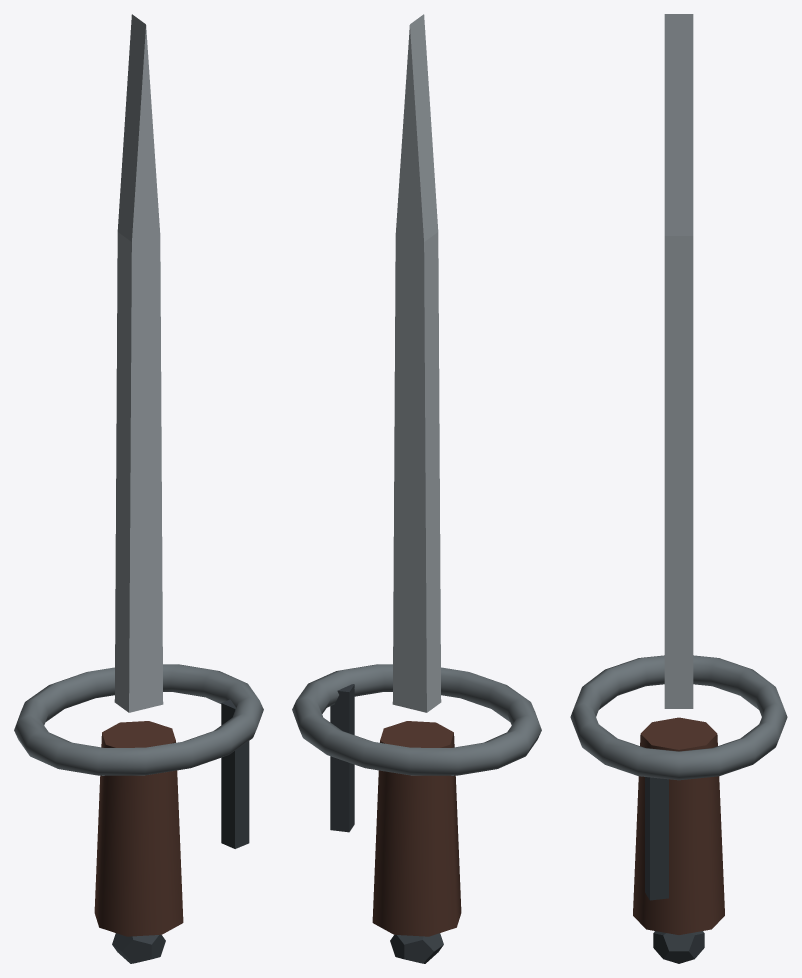
The model's file is rapier.glb.
3 views of the same model, side by side, from view 1: azimuth 30°, elevation 25°; view 2: azimuth 150°, elevation 25°; view 3: azimuth 270°, elevation 25° (orthographic).
Parts seen in each view (by area): view 1: rapier-blade, rapier-grip, rapier-guard, rapier-knuckle-bow, rapier-pommel; view 2: rapier-blade, rapier-grip, rapier-guard, rapier-knuckle-bow, rapier-pommel; view 3: rapier-blade, rapier-grip, rapier-guard, rapier-knuckle-bow, rapier-pommel.
Part boxes in pixels (<box>): rapier-blade: <box>114,14,163,712</box>; rapier-grip: <box>94,721,183,936</box>; rapier-guard: <box>14,664,263,775</box>; rapier-knuckle-bow: <box>221,699,249,848</box>; rapier-pommel: <box>112,933,165,963</box>; rapier-blade: <box>392,14,441,712</box>; rapier-grip: <box>372,721,461,936</box>; rapier-guard: <box>292,664,541,775</box>; rapier-knuckle-bow: <box>330,684,354,832</box>; rapier-pommel: <box>390,933,443,963</box>; rapier-blade: <box>664,14,693,708</box>; rapier-grip: <box>633,717,724,934</box>; rapier-guard: <box>570,655,787,780</box>; rapier-knuckle-bow: <box>645,749,668,900</box>; rapier-pommel: <box>653,931,704,963</box>.
Size of the model in its own units: 0.238 by 0.95 by 0.1978.
